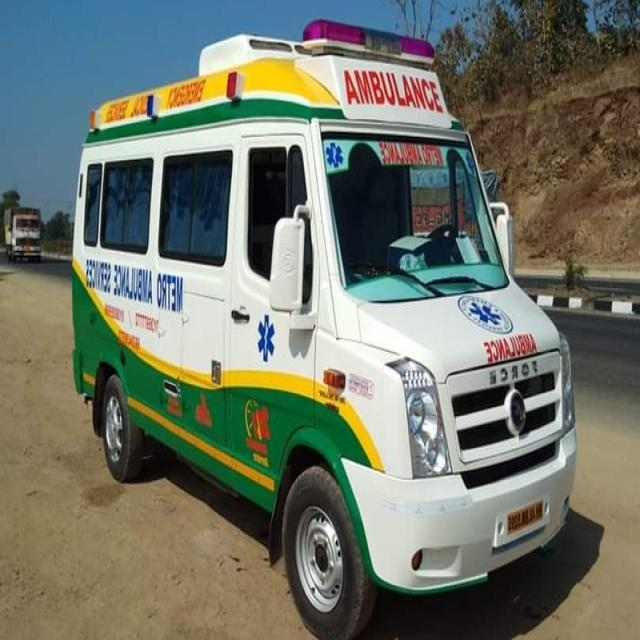emergency: (72, 20, 576, 638)
truck: (2, 192, 41, 261)
